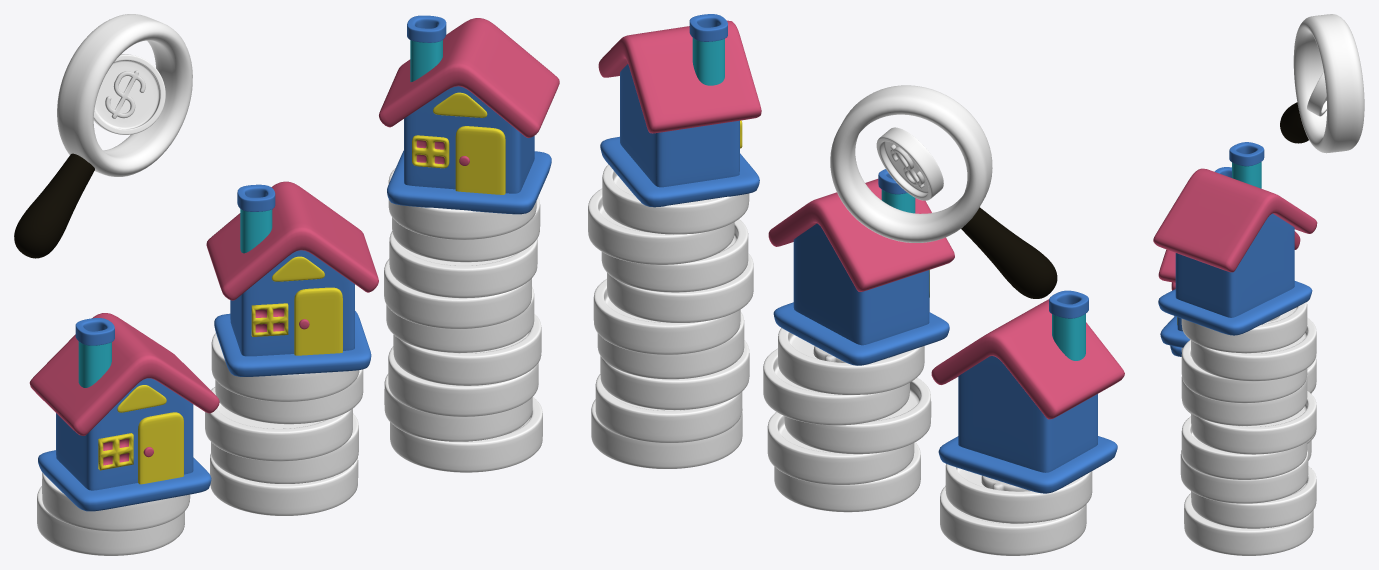
Rendered from valuation-3d-animated-model-1303185120656.glb.
3 views of the same model, side by side, from view 1: azimuth 30°, elevation 25°; view 2: azimuth 150°, elevation 25°; view 3: azimuth 270°, elevation 25° (orthographic). The views are drawn at different scales.
Visible parts, largest first — view 1: Cube.143, Cube.127, Cube.135, Cylinder.109, Cylinder.039, Cylinder.052, Cylinder.049, Cylinder.048, Cylinder.046, Cylinder.041, Cylinder.050, Cylinder.108 (+10 smaller); view 2: Cube.135, Cube.143, Cube.127, Cylinder.109, Cylinder.037, Cylinder.042, Cylinder.051, Cylinder.040, Cylinder.047, Cylinder.043, Cylinder.039, Cylinder.038 (+10 smaller); view 3: Cube.143, Cylinder.109, Cylinder.051, Cylinder.045, Cylinder.048, Cylinder.049, Cylinder.047, Cylinder.046, Cylinder.044, Cylinder.052, Cylinder.050, Cube.127 (+3 smaller).
Boxes of the visible parts, x1,y1,x2,y2 form: Cube.143: (379,15,559,214); Cube.127: (206,181,378,376); Cube.135: (29,313,219,511); Cylinder.109: (57,14,192,176); Cylinder.039: (205,387,352,461); Cylinder.052: (389,231,537,298); Cylinder.049: (393,314,541,385); Cylinder.048: (390,397,542,472); Cylinder.046: (388,346,538,416); Cylinder.041: (210,453,358,515); Cylinder.050: (384,259,531,328); Cylinder.108: (93,54,165,134); Cube.135: (931,290,1124,493); Cube.143: (598,14,761,207); Cube.127: (768,169,954,365); Cylinder.109: (830,85,992,242); Cylinder.037: (778,328,924,394); Cylinder.042: (945,464,1092,523); Cylinder.051: (593,279,740,354); Cylinder.040: (767,412,914,484); Cylinder.047: (595,374,742,442); Cylinder.043: (940,486,1086,555); Cylinder.039: (784,377,931,454); Cylinder.038: (763,348,909,425); Cube.143: (1153,142,1317,335); Cylinder.109: (1293,14,1364,153); Cylinder.051: (1191,391,1316,454); Cylinder.045: (1191,317,1316,381); Cylinder.048: (1184,493,1313,555); Cylinder.049: (1181,416,1307,479); Cylinder.047: (1191,466,1316,528); Cylinder.046: (1180,450,1308,503); Cylinder.044: (1181,302,1307,353); Cylinder.052: (1181,340,1307,403); Cylinder.050: (1181,377,1307,425); Cube.127: (1158,167,1300,347).
Size of the model in its own units: 12.81 by 11.01 by 5.45.
